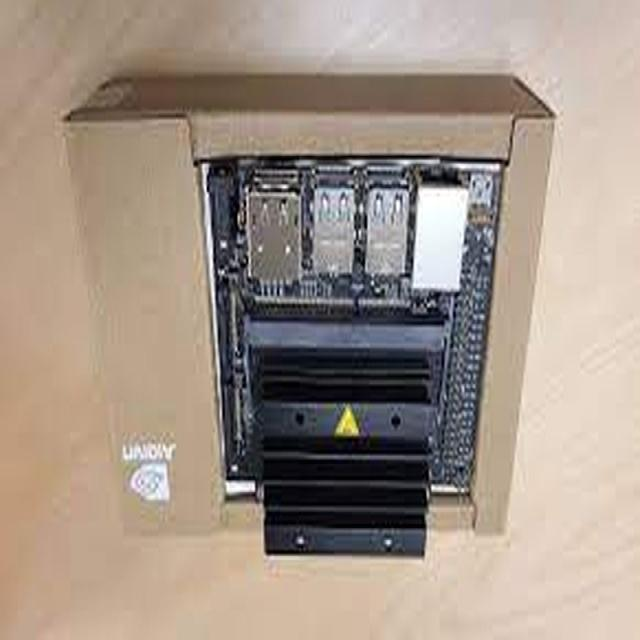Jetson Nano: (211, 165, 500, 560)
